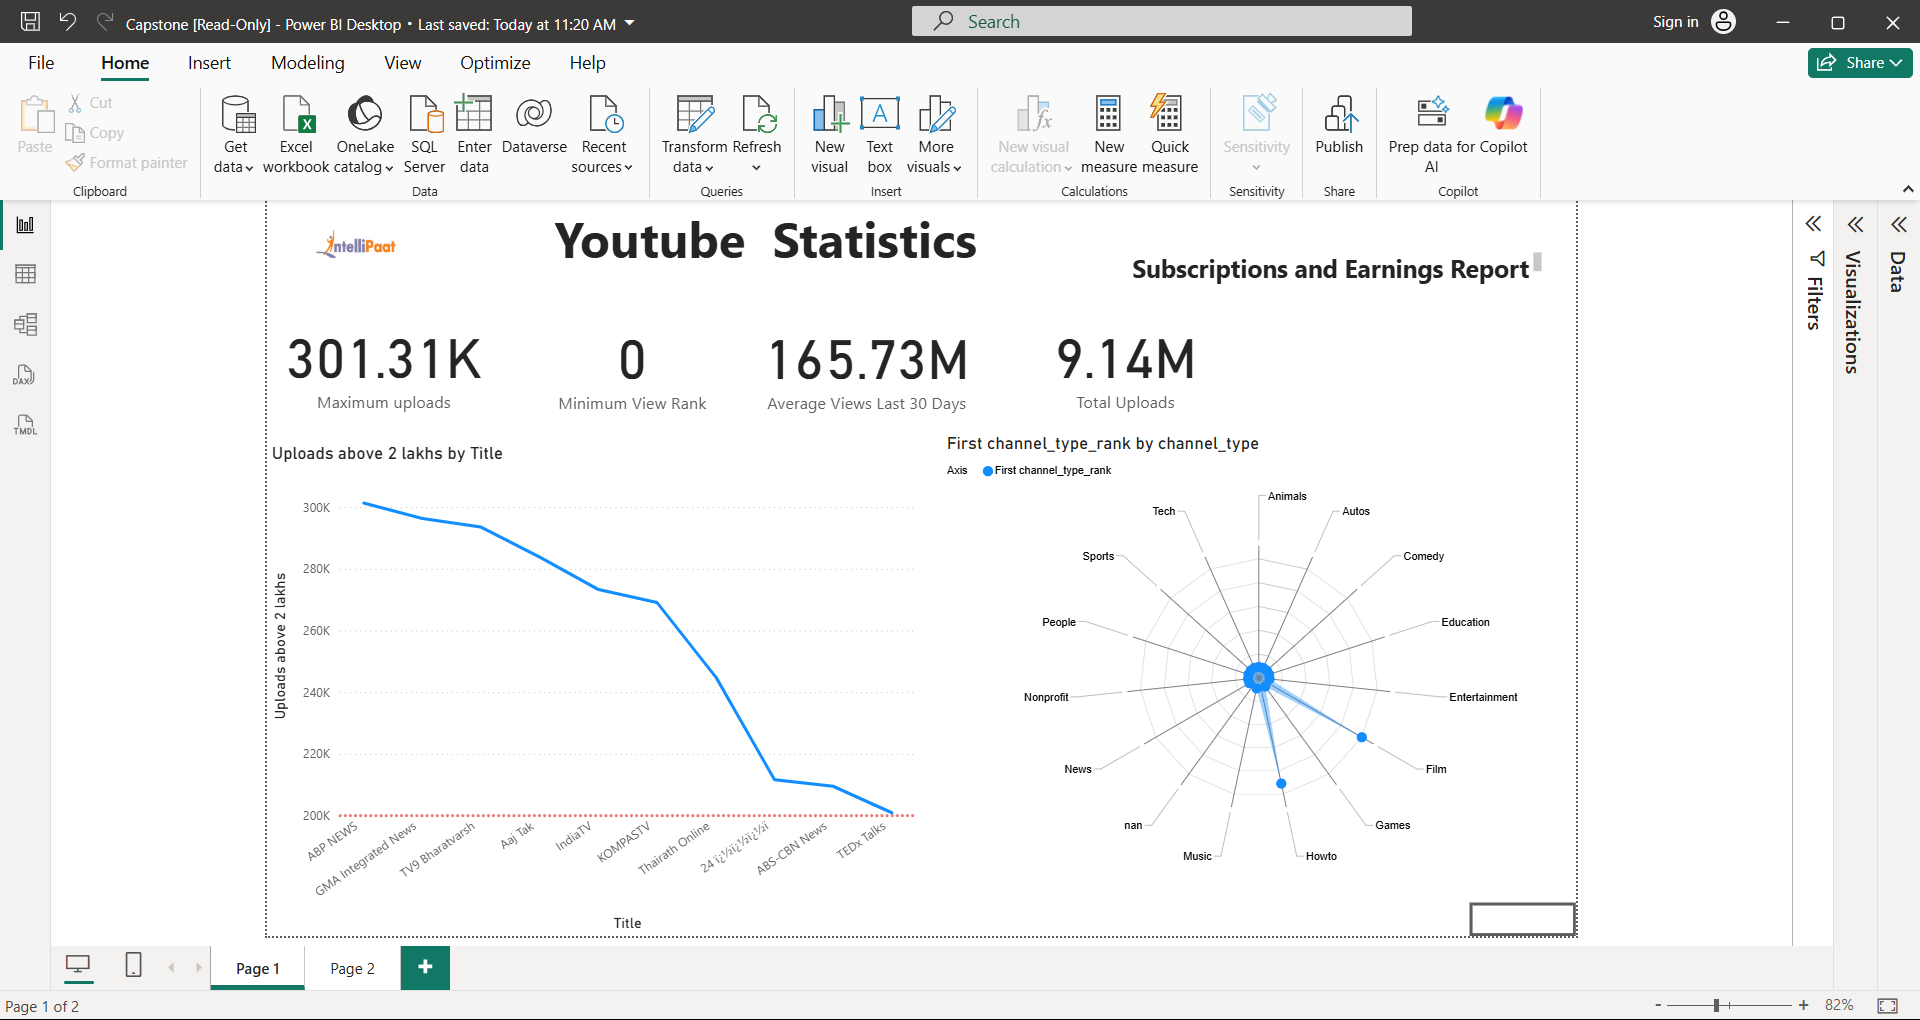

This screenshot's page, from the dashboard's own definition file:
{"tool":"powerbi","page":{"name":"Page 1","canvas":[1280,720],"ordinal":0},"visuals":[{"type":"card","fields":{"Values":["Global YouTube Statistics.Maximum uploads"]},"box":[0,90.6,229.2,137.2],"z":0},{"type":"card","fields":{"Values":["Global YouTube Statistics.Minimum View Rank"]},"box":[252.5,91.9,211.3,135.8],"z":1000},{"type":"card","fields":{"Values":["Global YouTube Statistics.Average Views Last 30 Days"]},"box":[463.8,91.9,247,135.8],"z":2000},{"type":"lineChart","fields":{"Category":["Global YouTube Statistics.Title"],"Y":["Global YouTube Statistics.Uploads above 2 lakhs"]},"box":[0,237.4,639.5,483],"z":3000},{"type":"RadarChart1446119667547","fields":{"Category":["Global YouTube Statistics.channel_type"],"Y":["Min(Global YouTube Statistics.channel_type_rank)"]},"box":[660,227.8,620.2,435],"z":4000},{"type":"card","fields":{"Values":["Global YouTube Statistics.Total Uploads"]},"box":[710.8,90.6,259.3,137.2],"z":5000},{"type":"actionButton","title":"Page 1 ","box":[1176,687.5,104.3,32.9],"z":6000},{"type":"image","box":[0,0,174.3,91.9],"z":7000},{"type":"textbox","box":[275.8,0,455.6,90.6],"z":8000},{"type":"textbox","box":[841.2,46.7,410.3,43.9],"z":9000}]}

Visuals, with their boxes on the page's 1280x720 design canvas (x1, y1, x2, y2). These are canvas units, not pixel positions in the 1920x1020 screenshot, which may show the page scaled, cropped or inside an application window:
card - Global YouTube Statistics.Maximum uploads: [x1=0, y1=91, x2=229, y2=228]
card - Global YouTube Statistics.Minimum View Rank: [x1=252, y1=92, x2=464, y2=228]
card - Global YouTube Statistics.Average Views Last 30 Days: [x1=464, y1=92, x2=711, y2=228]
lineChart - Global YouTube Statistics.Title x Global YouTube Statistics.Uploads above 2 lakhs: [x1=0, y1=237, x2=640, y2=720]
RadarChart1446119667547 - Global YouTube Statistics.channel_type x Min(Global YouTube Statistics.channel_type_rank): [x1=660, y1=228, x2=1280, y2=663]
card - Global YouTube Statistics.Total Uploads: [x1=711, y1=91, x2=970, y2=228]
"Page 1 " actionButton: [x1=1176, y1=688, x2=1280, y2=720]
image: [x1=0, y1=0, x2=174, y2=92]
textbox: [x1=276, y1=0, x2=731, y2=91]
textbox: [x1=841, y1=47, x2=1252, y2=91]
